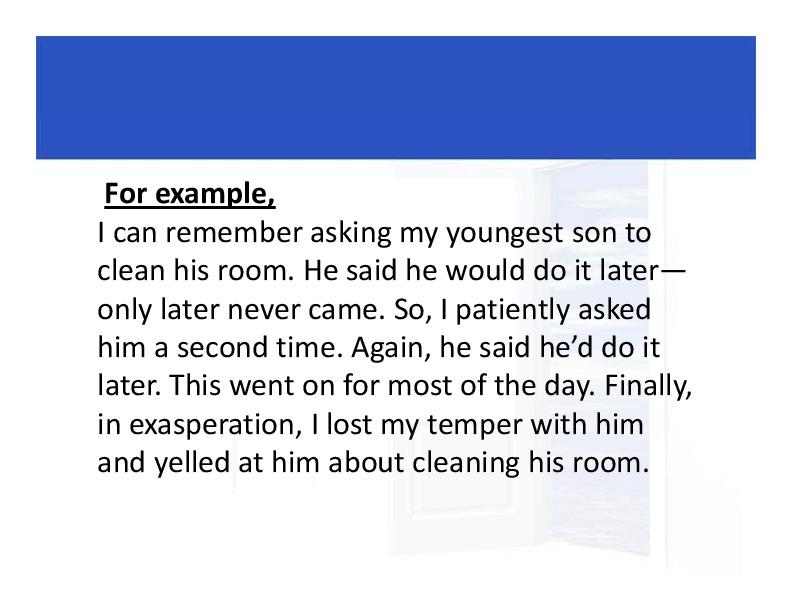paragraph: (85, 214, 728, 495)
title: (88, 172, 290, 219)
